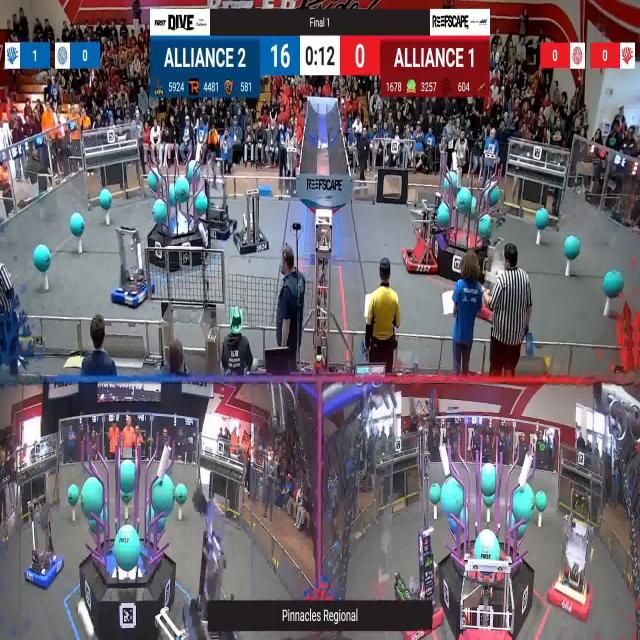scoreboard: (151, 34, 489, 96)
